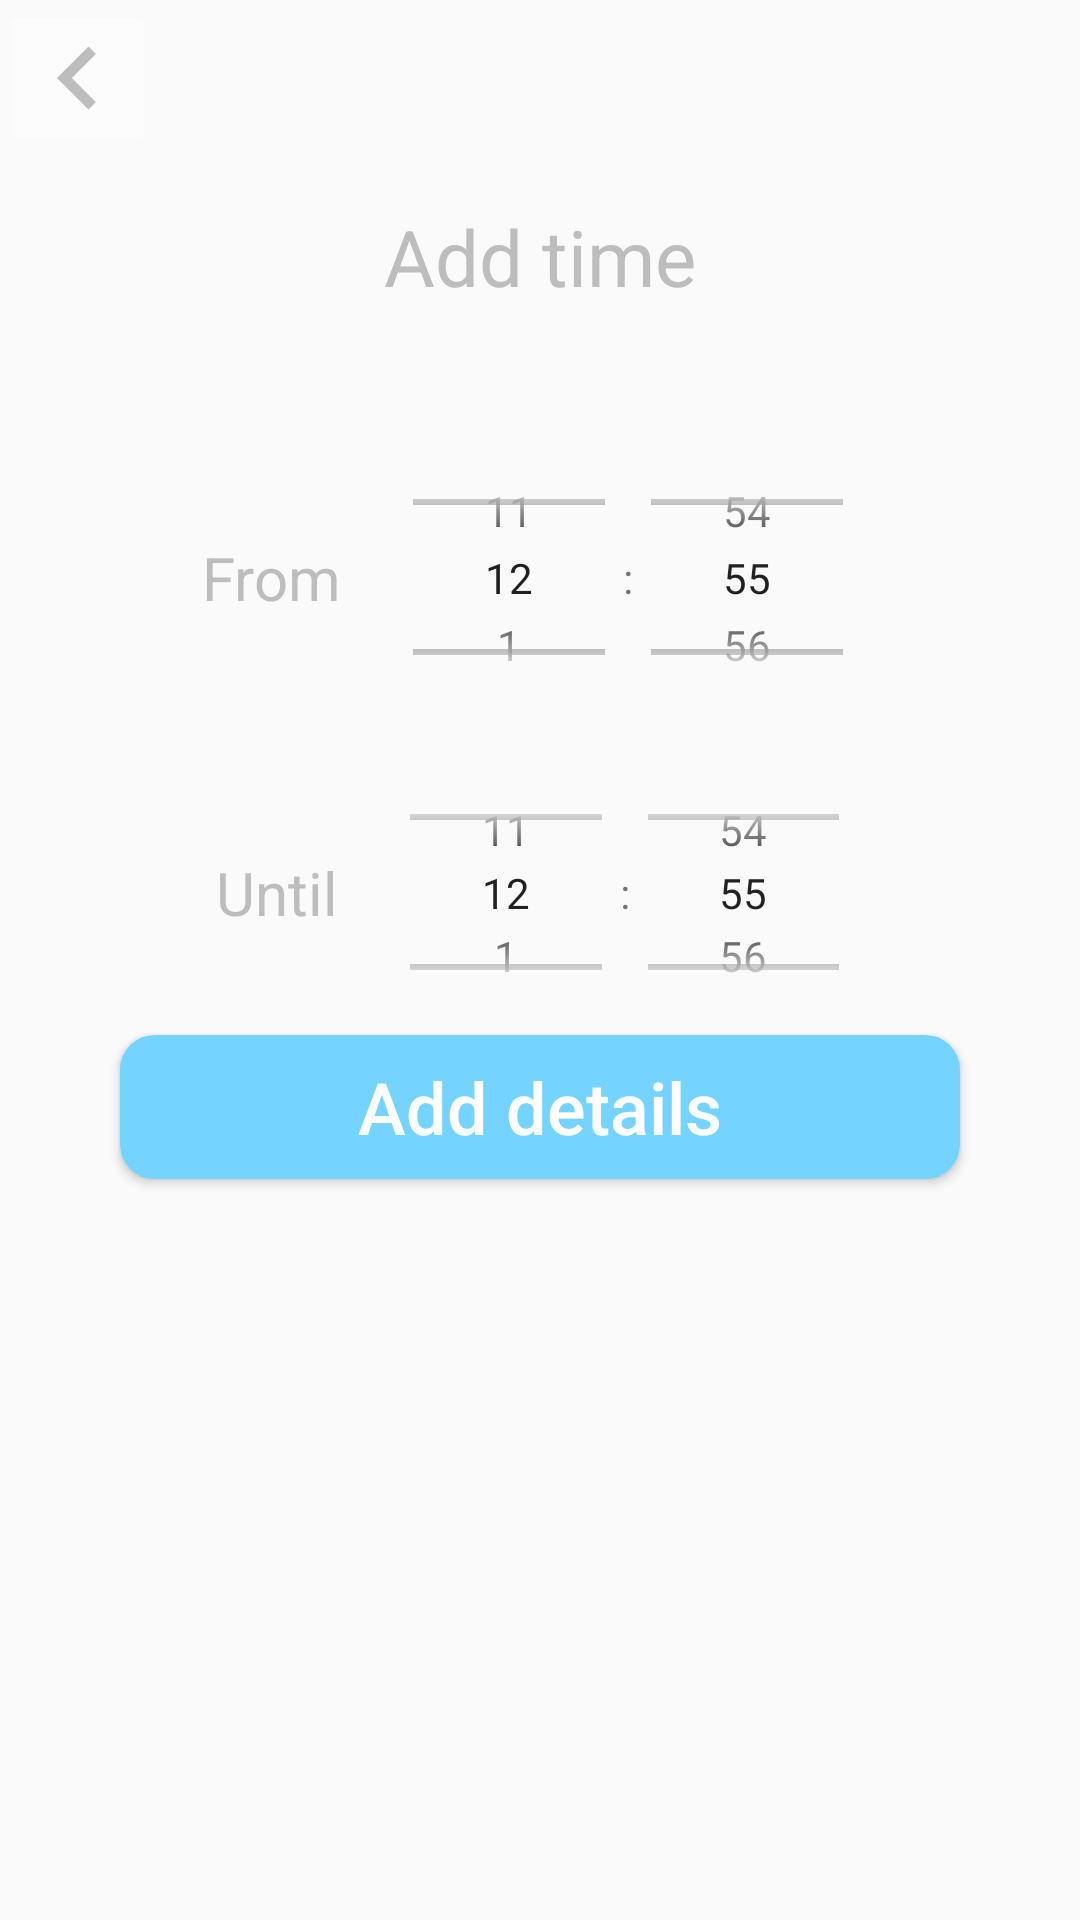

Screen size 1080w x 1920h. Icon name, then its box in pixels as Rect(x1, y1, x2, y2):
back: Rect(57, 47, 96, 109)
